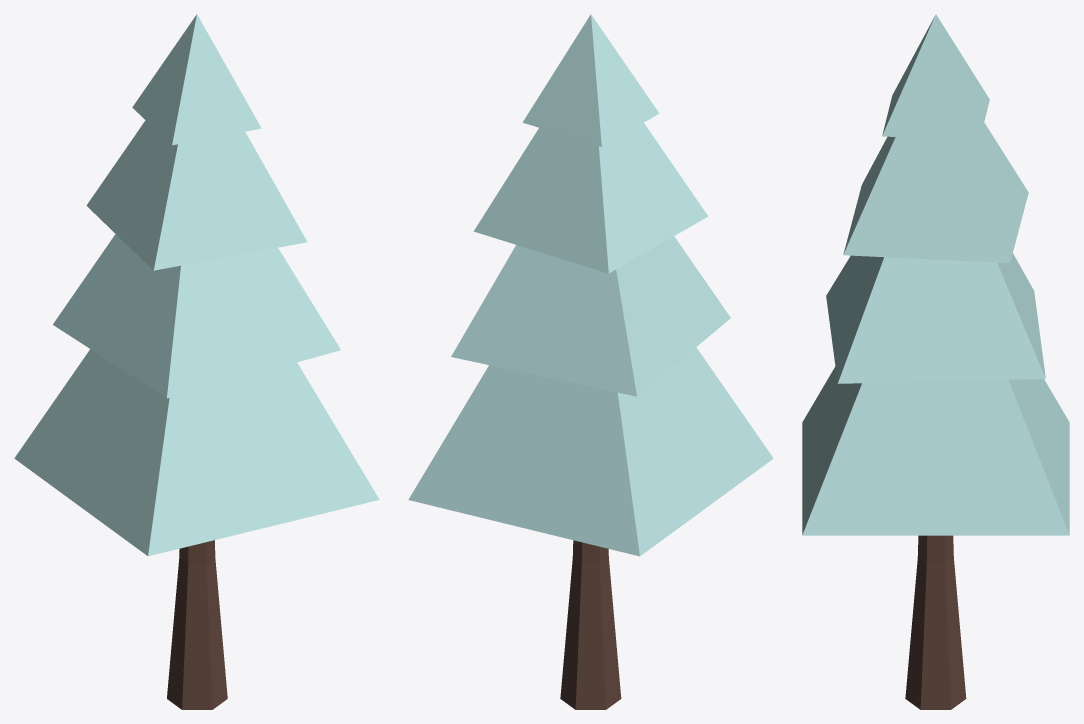
Rendered from WinterTree_03.fbx.
The picture shows the model from 3 angles, left to right: view 1: azimuth 30°, elevation 25°; view 2: azimuth 150°, elevation 25°; view 3: azimuth 270°, elevation 25°; orthographic projection.
Parts seen in each view (by area): view 1: WinterTree_03; view 2: WinterTree_03; view 3: WinterTree_03.
Part boxes in pixels (<box>): WinterTree_03: <box>14,14,379,709</box>; WinterTree_03: <box>408,14,773,709</box>; WinterTree_03: <box>802,14,1069,709</box>.
Bounding box in the file's own units: 344 × 972 × 344.
